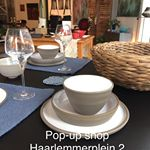cups: (61, 73, 116, 118), (35, 43, 62, 61)
